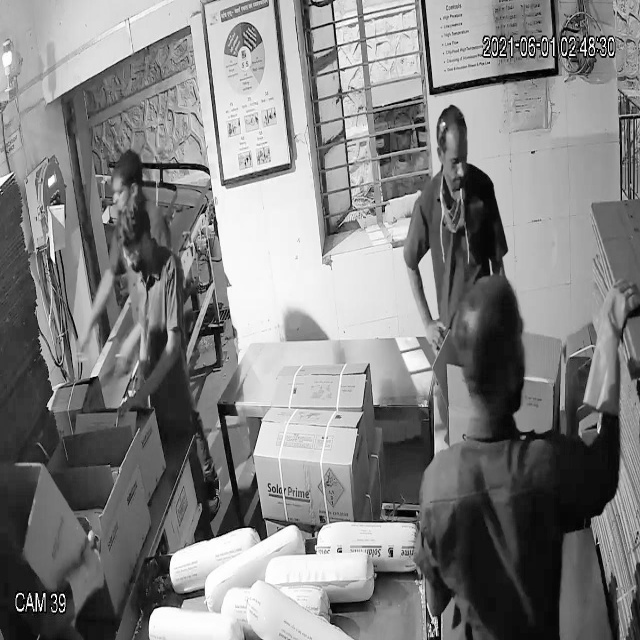Sin_gafas: (430, 143, 476, 183)
